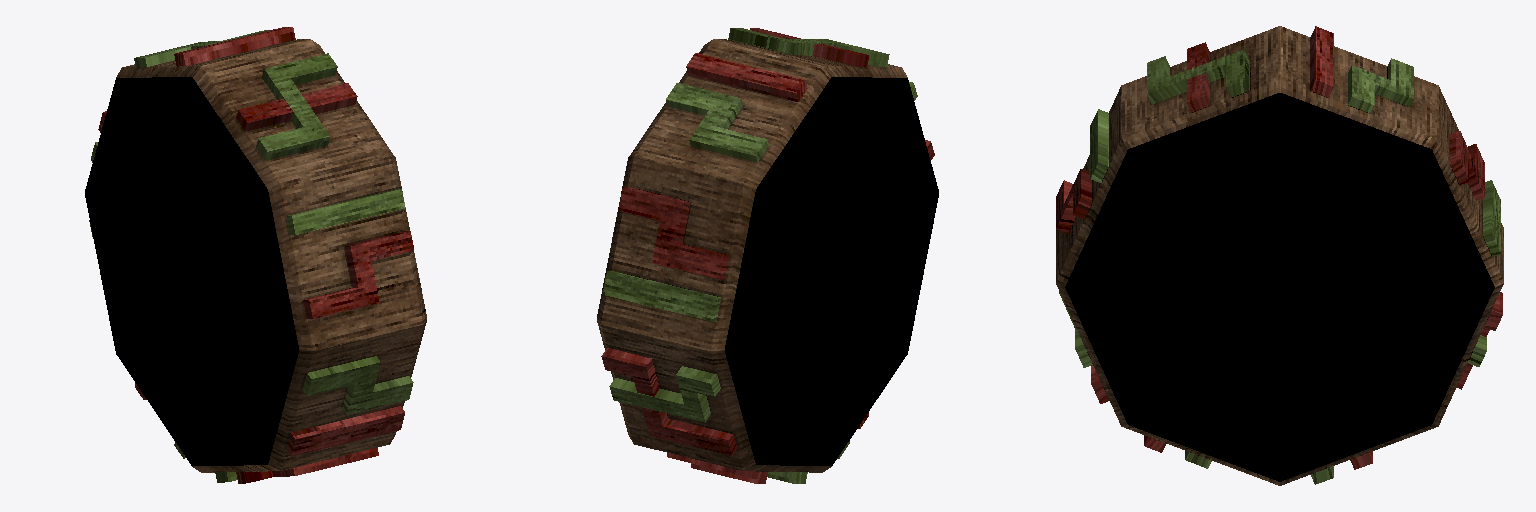
The picture shows the model from 3 angles: view 1: azimuth 30°, elevation 25°; view 2: azimuth 150°, elevation 25°; view 3: azimuth 270°, elevation 25°; orthographic projection.
Parts seen in each view (by area): view 1: Codex_part3; view 2: Codex_part3; view 3: Codex_part3.
Boxes of the visible parts, box(x1,y1,x2,y2) form: Codex_part3: box(85, 27, 426, 483); Codex_part3: box(597, 28, 938, 483); Codex_part3: box(1056, 26, 1503, 485).
Bounding box in the file's own units: 22.19 × 67.37 × 67.37.
Materials: 3 (3 with a texture image).